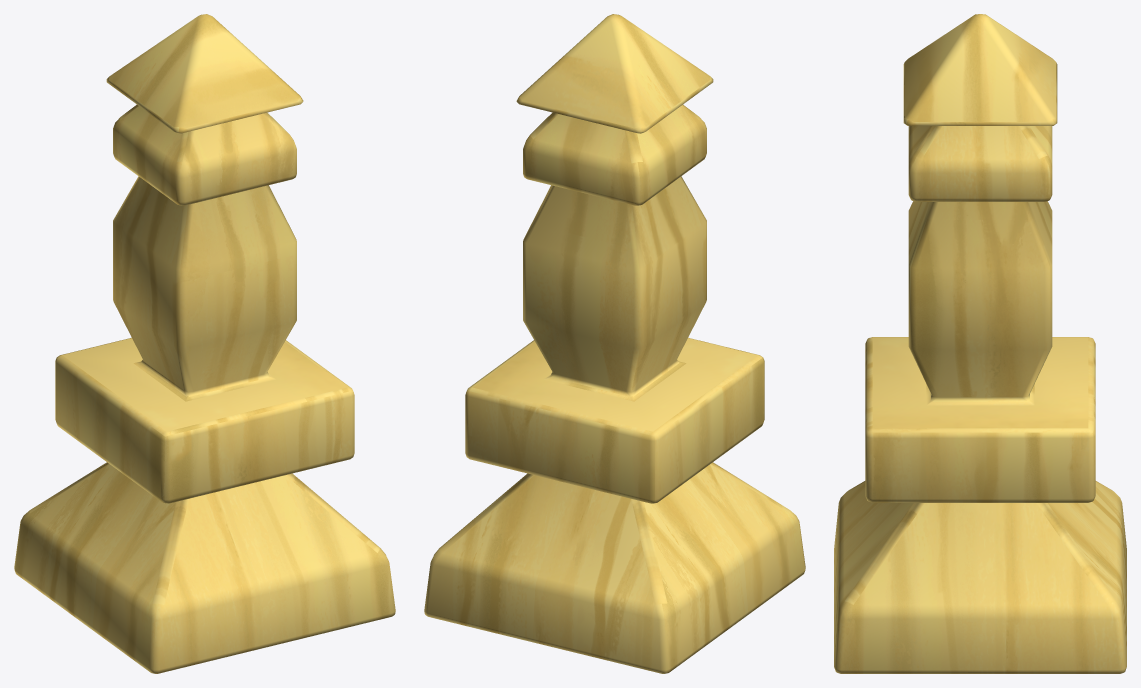
Rendered from kuningas.fbx.
3 renders of one model, left to right at view 1: azimuth 30°, elevation 25°; view 2: azimuth 150°, elevation 25°; view 3: azimuth 270°, elevation 25°, orthographic. The views are drawn at different scales.
Visible parts, largest first — view 1: king; view 2: king; view 3: king.
Boxes of the visible parts, x1=… form: king: x1=14, y1=14, x2=395, y2=673; king: x1=424, y1=14, x2=805, y2=673; king: x1=834, y1=14, x2=1126, y2=673.
Size of the model in its own units: 201 by 454 by 201.
1 material, 1 textured.
